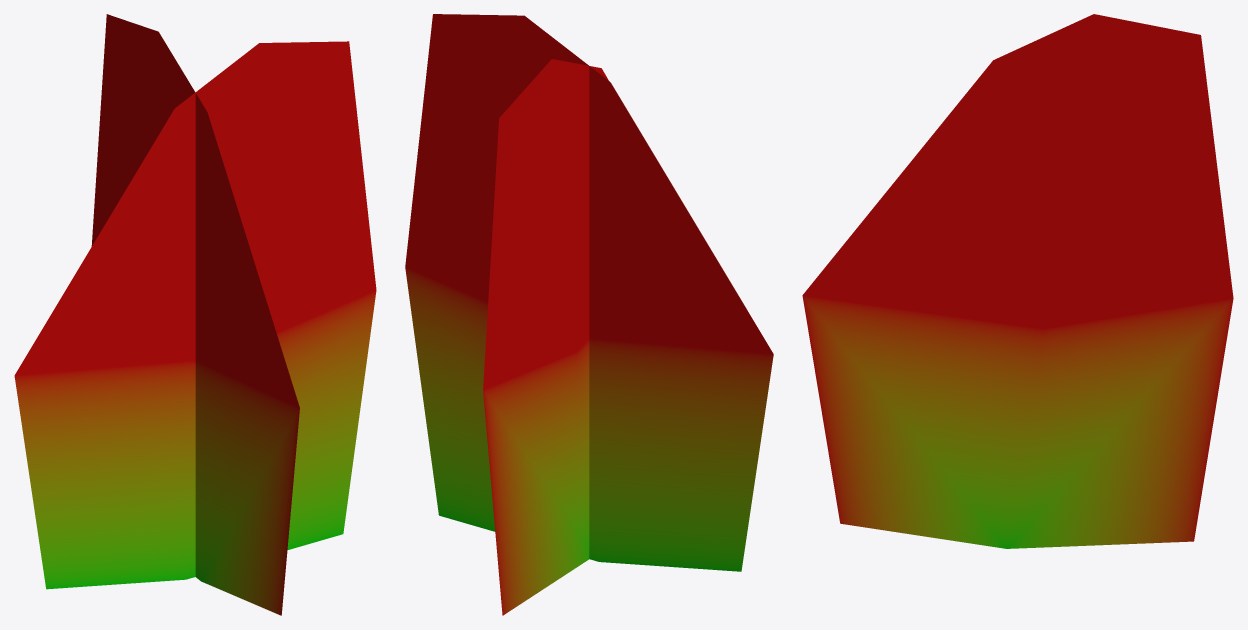
The model's file is Kikuyu Grass_LOD6_Var14_wiljearqx.fbx.
3 renders of one model, left to right at view 1: azimuth 30°, elevation 25°; view 2: azimuth 150°, elevation 25°; view 3: azimuth 270°, elevation 25°, orthographic. The views are drawn at different scales.
Visible parts, largest first — view 1: _mjui_Var14_LOD6; view 2: _mjui_Var14_LOD6; view 3: _mjui_Var14_LOD6.
Part boxes in pixels (bbox=[...]): _mjui_Var14_LOD6: bbox=[14, 14, 376, 615]; _mjui_Var14_LOD6: bbox=[405, 14, 773, 615]; _mjui_Var14_LOD6: bbox=[802, 14, 1233, 548].
Size of the model in its own units: 9.99 by 13.68 by 9.99.
